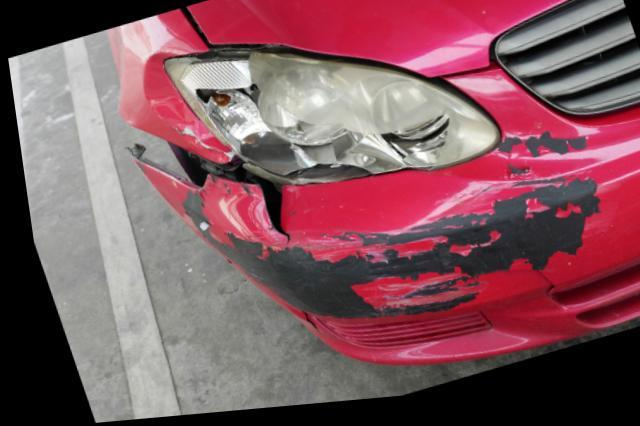crack: (251, 189, 283, 252), (527, 280, 549, 312), (292, 316, 311, 341)
dent: (140, 56, 196, 140)
dislocated part: (121, 127, 593, 374)
lamp broken: (161, 52, 496, 190)
scratch: (180, 138, 597, 325)
